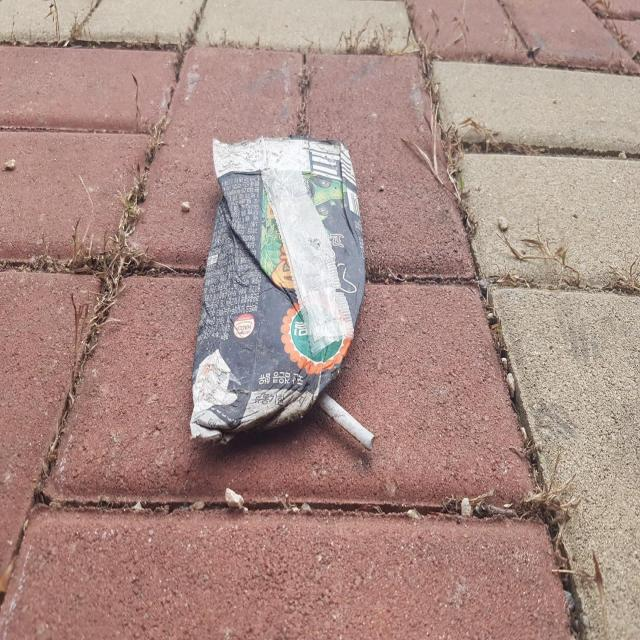paperpack: (190, 136, 366, 442)
